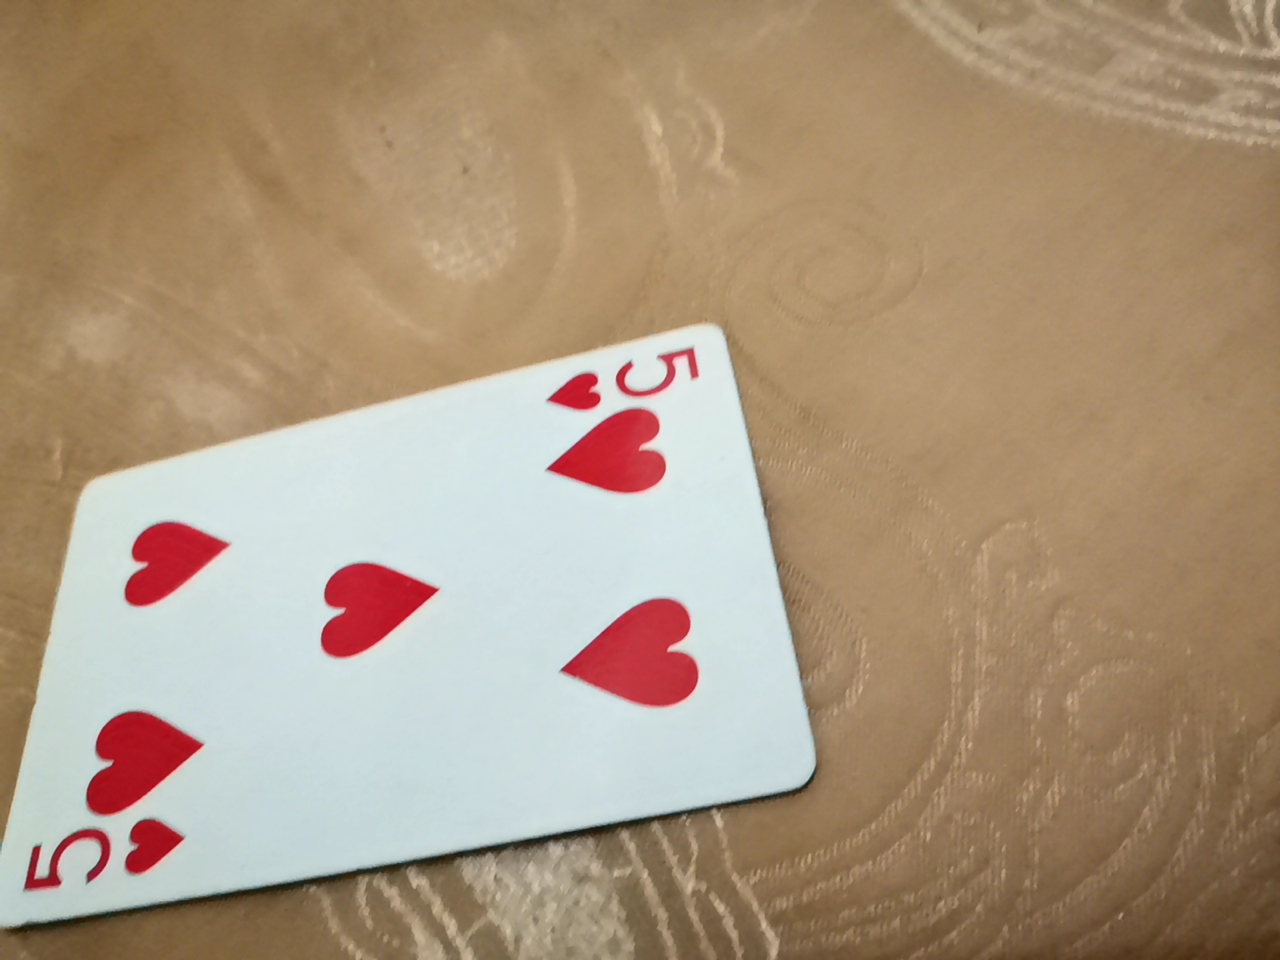hx 5: (8, 361, 801, 950)
